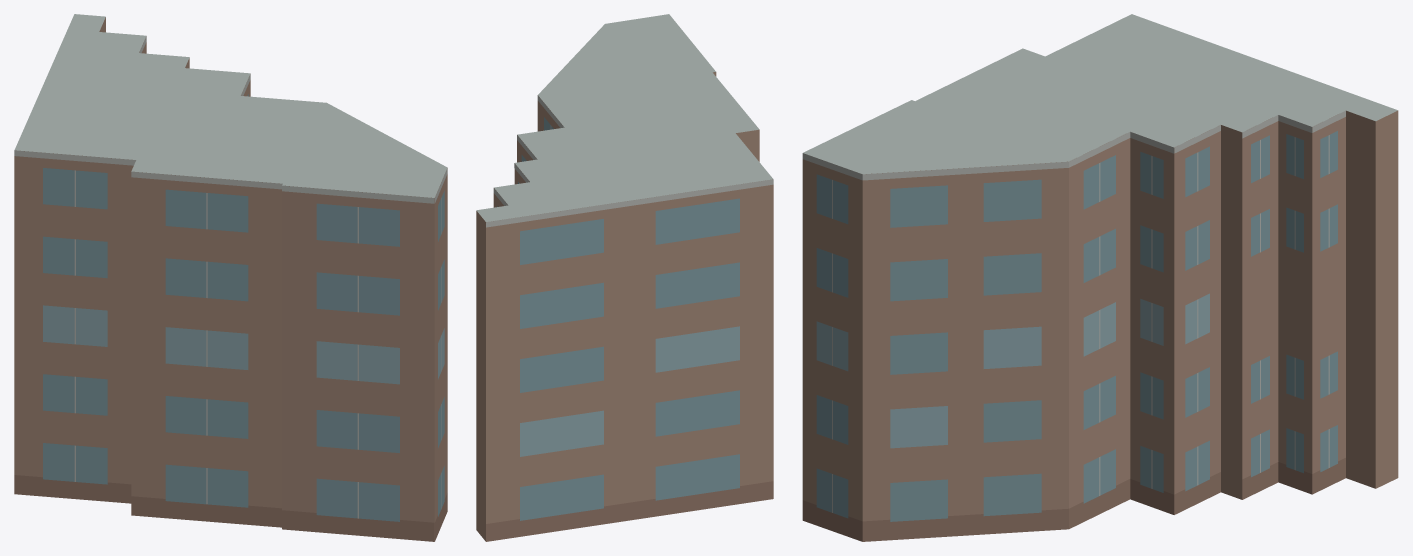
The model's file is survey-upis-32567658.glb.
The picture shows the model from 3 angles, left to right: view 1: azimuth 30°, elevation 25°; view 2: azimuth 150°, elevation 25°; view 3: azimuth 270°, elevation 25°; orthographic projection. The views are drawn at different scales.
Visible parts, largest first — view 1: survey-upis-32567658.tmp; view 2: survey-upis-32567658.tmp; view 3: survey-upis-32567658.tmp.
Boxes of the visible parts, x1,y1,x2,y2 form: survey-upis-32567658.tmp: (14,14,447,541); survey-upis-32567658.tmp: (476,14,773,541); survey-upis-32567658.tmp: (802,14,1398,541).
Bounding box in the file's own units: 13.57 × 14.5 × 21.31.
